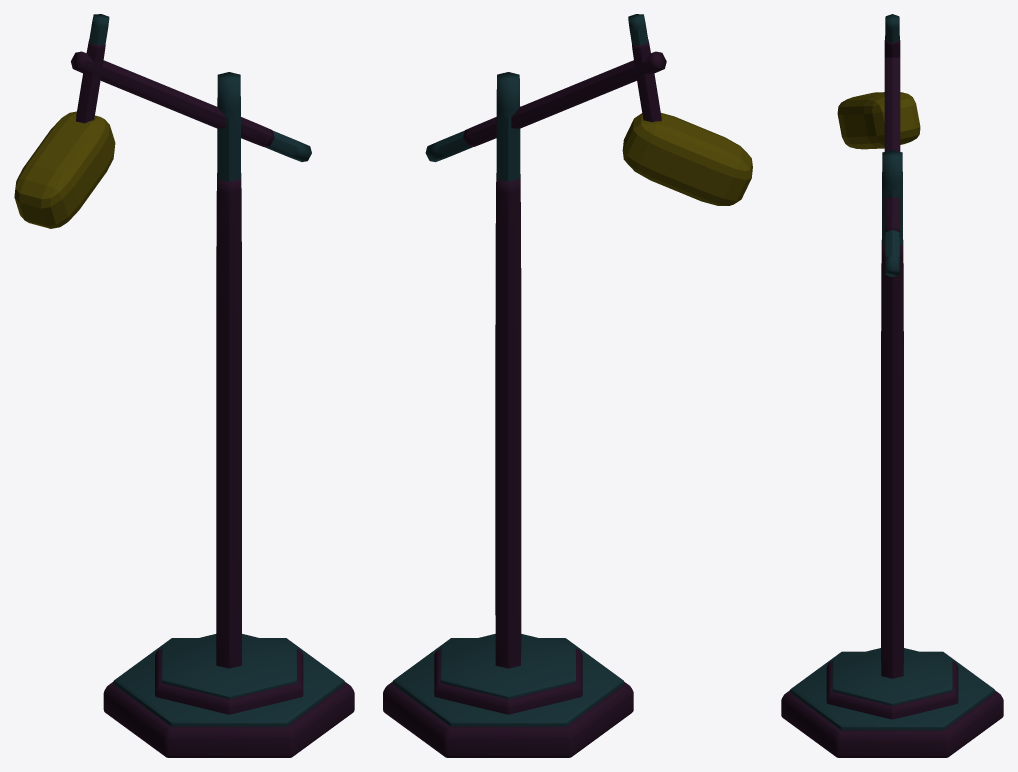
The model's file is HexMicTile.glb.
3 views of the same model, side by side, from view 1: azimuth 30°, elevation 25°; view 2: azimuth 150°, elevation 25°; view 3: azimuth 270°, elevation 25° (orthographic). The views are drawn at different scales.
Visible parts, largest first — view 1: Cube; view 2: Cube; view 3: Cube.
Part boxes in pixels (x1,y1,x2,y2): Cube: (14,14,354,757); Cube: (383,14,752,757); Cube: (781,14,1003,757).
Bounding box in the file's own units: 14.46 × 31.29 × 9.76.
